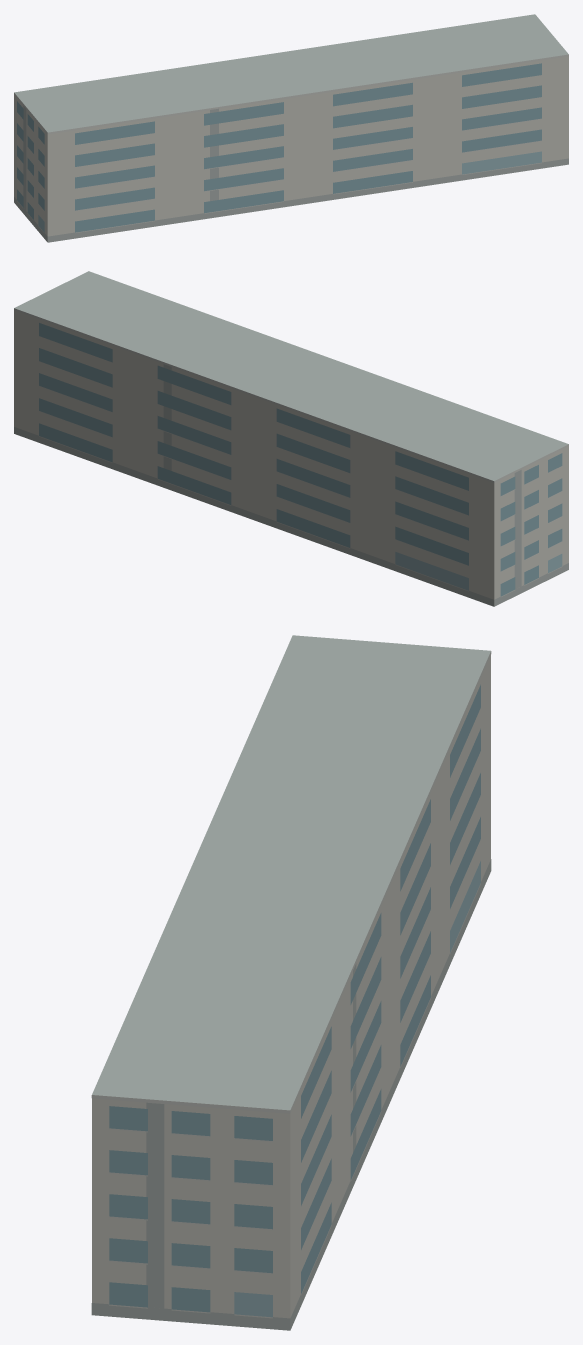
Rendered from residential-472d31ec-027a-46ab-9ff3-23aa121a4c11.glb.
The picture shows the model from 3 angles, top to bottom: view 1: azimuth 30°, elevation 25°; view 2: azimuth 150°, elevation 25°; view 3: azimuth 270°, elevation 25°; orthographic projection. The views are drawn at different scales.
Visible parts, largest first — view 1: residential-472d31ec-027a-46ab-9ff3-23aa121a4c11.tmp; view 2: residential-472d31ec-027a-46ab-9ff3-23aa121a4c11.tmp; view 3: residential-472d31ec-027a-46ab-9ff3-23aa121a4c11.tmp.
Boxes of the visible parts, x1,y1,x2,y2 form: residential-472d31ec-027a-46ab-9ff3-23aa121a4c11.tmp: (14, 14, 568, 242); residential-472d31ec-027a-46ab-9ff3-23aa121a4c11.tmp: (14, 271, 568, 606); residential-472d31ec-027a-46ab-9ff3-23aa121a4c11.tmp: (91, 635, 491, 1330).
Bounding box in the file's own units: 70.57 × 15.25 × 25.07.
